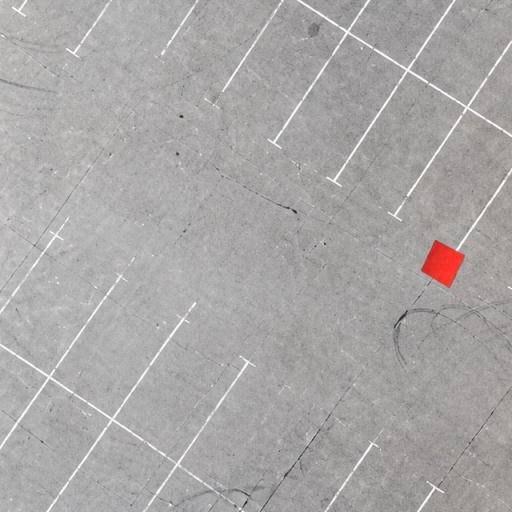RED_SQUARE: (420, 239, 466, 289)
